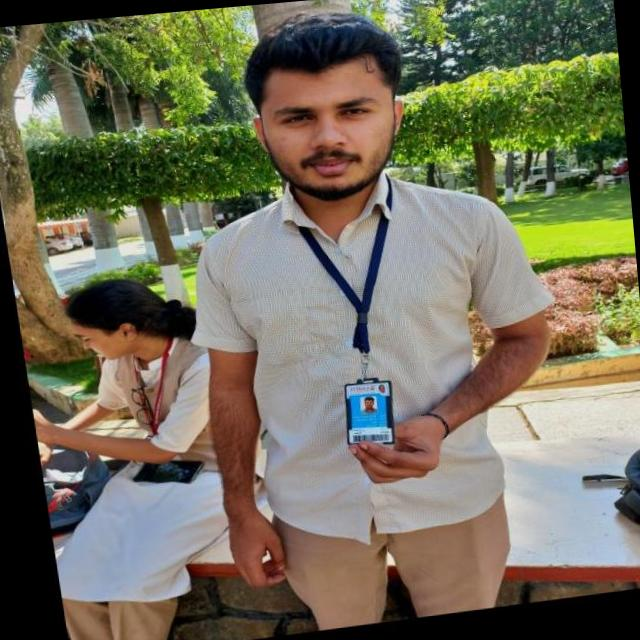id_card: (290, 208, 417, 448)
